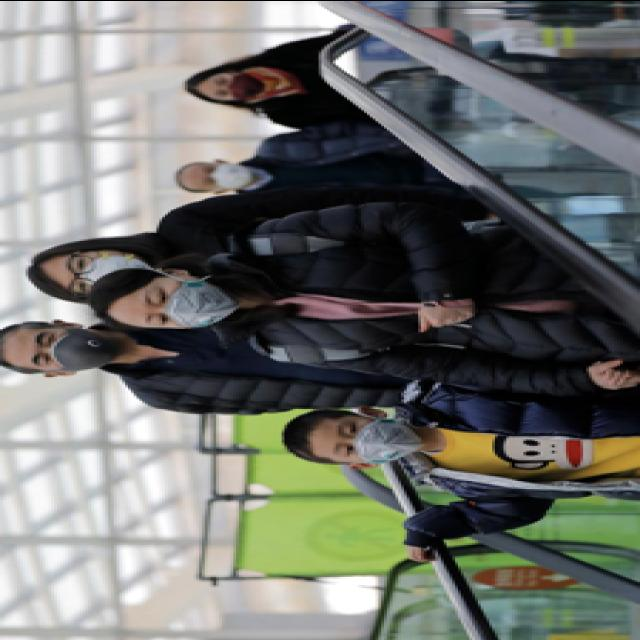with_mask: (134, 272, 242, 331), (324, 414, 424, 468), (22, 323, 116, 373), (57, 248, 151, 296), (193, 162, 256, 196), (205, 70, 267, 102)
